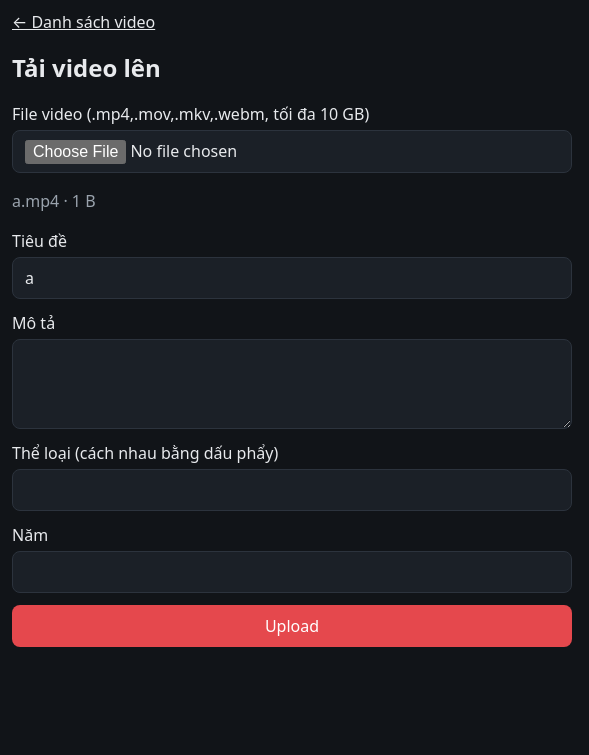
Test case: AdminUploadPage › Huỷ upload: huỷ rồi xoá video dở
Earlier steps of the test are not shown.
Click the button "Upload" at (292, 626), box 12,605 -> 572,647
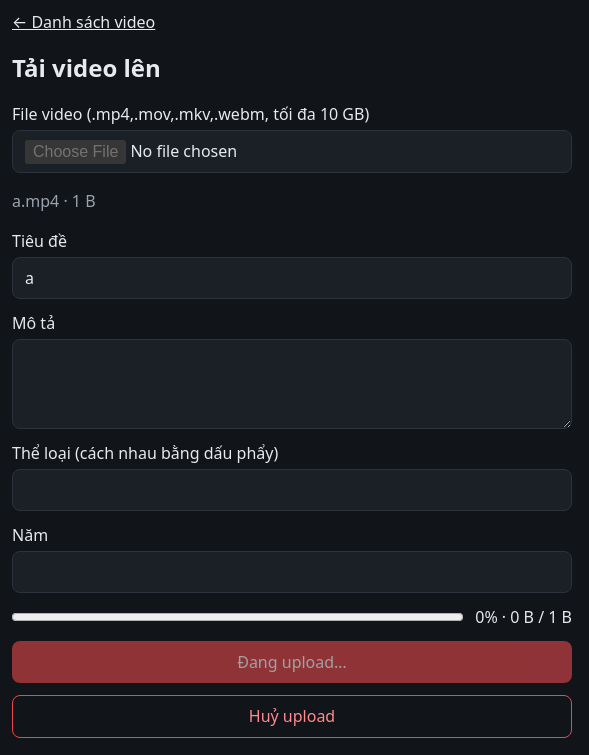
Click the button "Huỷ upload" at (292, 716), box 12,695 -> 572,738
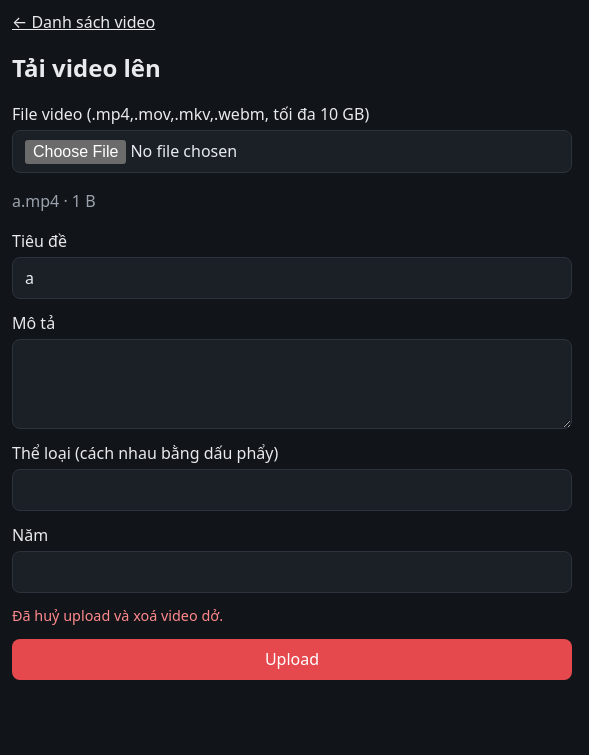
expect the text "Đã huỷ upload và xoá video dở." is shown: met, box 12,606 -> 223,625
